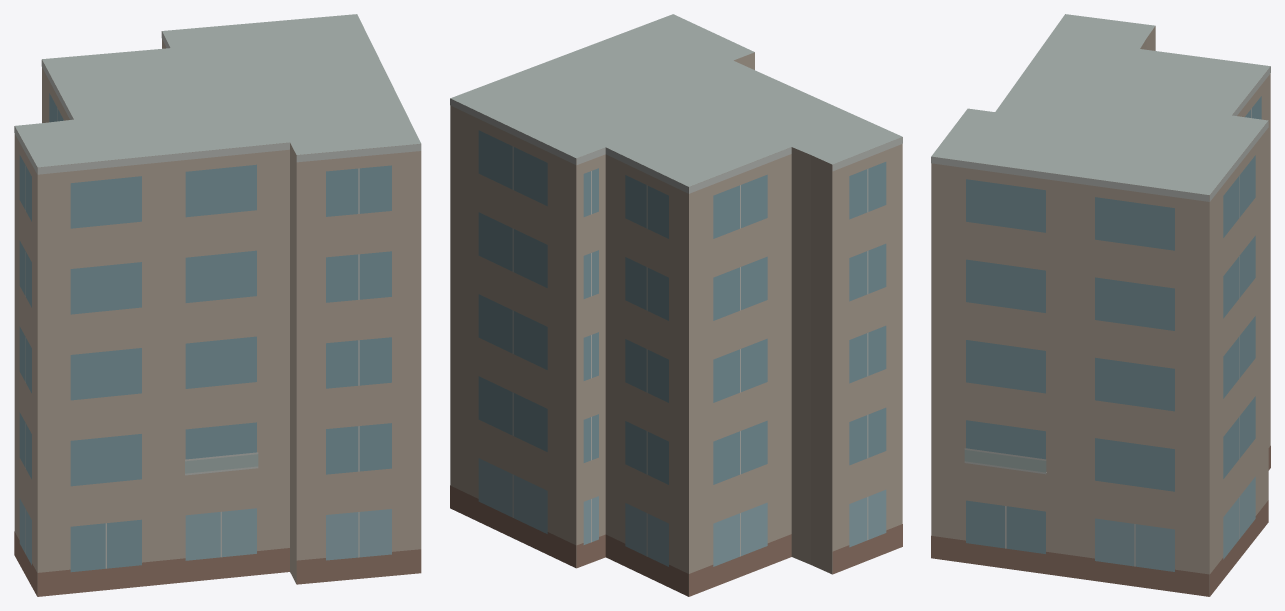
File: survey-upis-32877159.glb
The picture shows the model from 3 angles, left to right: view 1: azimuth 30°, elevation 25°; view 2: azimuth 150°, elevation 25°; view 3: azimuth 270°, elevation 25°; orthographic projection. The views are drawn at different scales.
Parts seen in each view (by area): view 1: survey-upis-32877159.tmp; view 2: survey-upis-32877159.tmp; view 3: survey-upis-32877159.tmp.
Boxes of the visible parts, x1,y1,x2,y2 form: survey-upis-32877159.tmp: [14, 14, 421, 596]; survey-upis-32877159.tmp: [450, 14, 902, 596]; survey-upis-32877159.tmp: [931, 14, 1270, 596].
Bounding box in the file's own units: 13.94 × 14.4 × 11.04.
